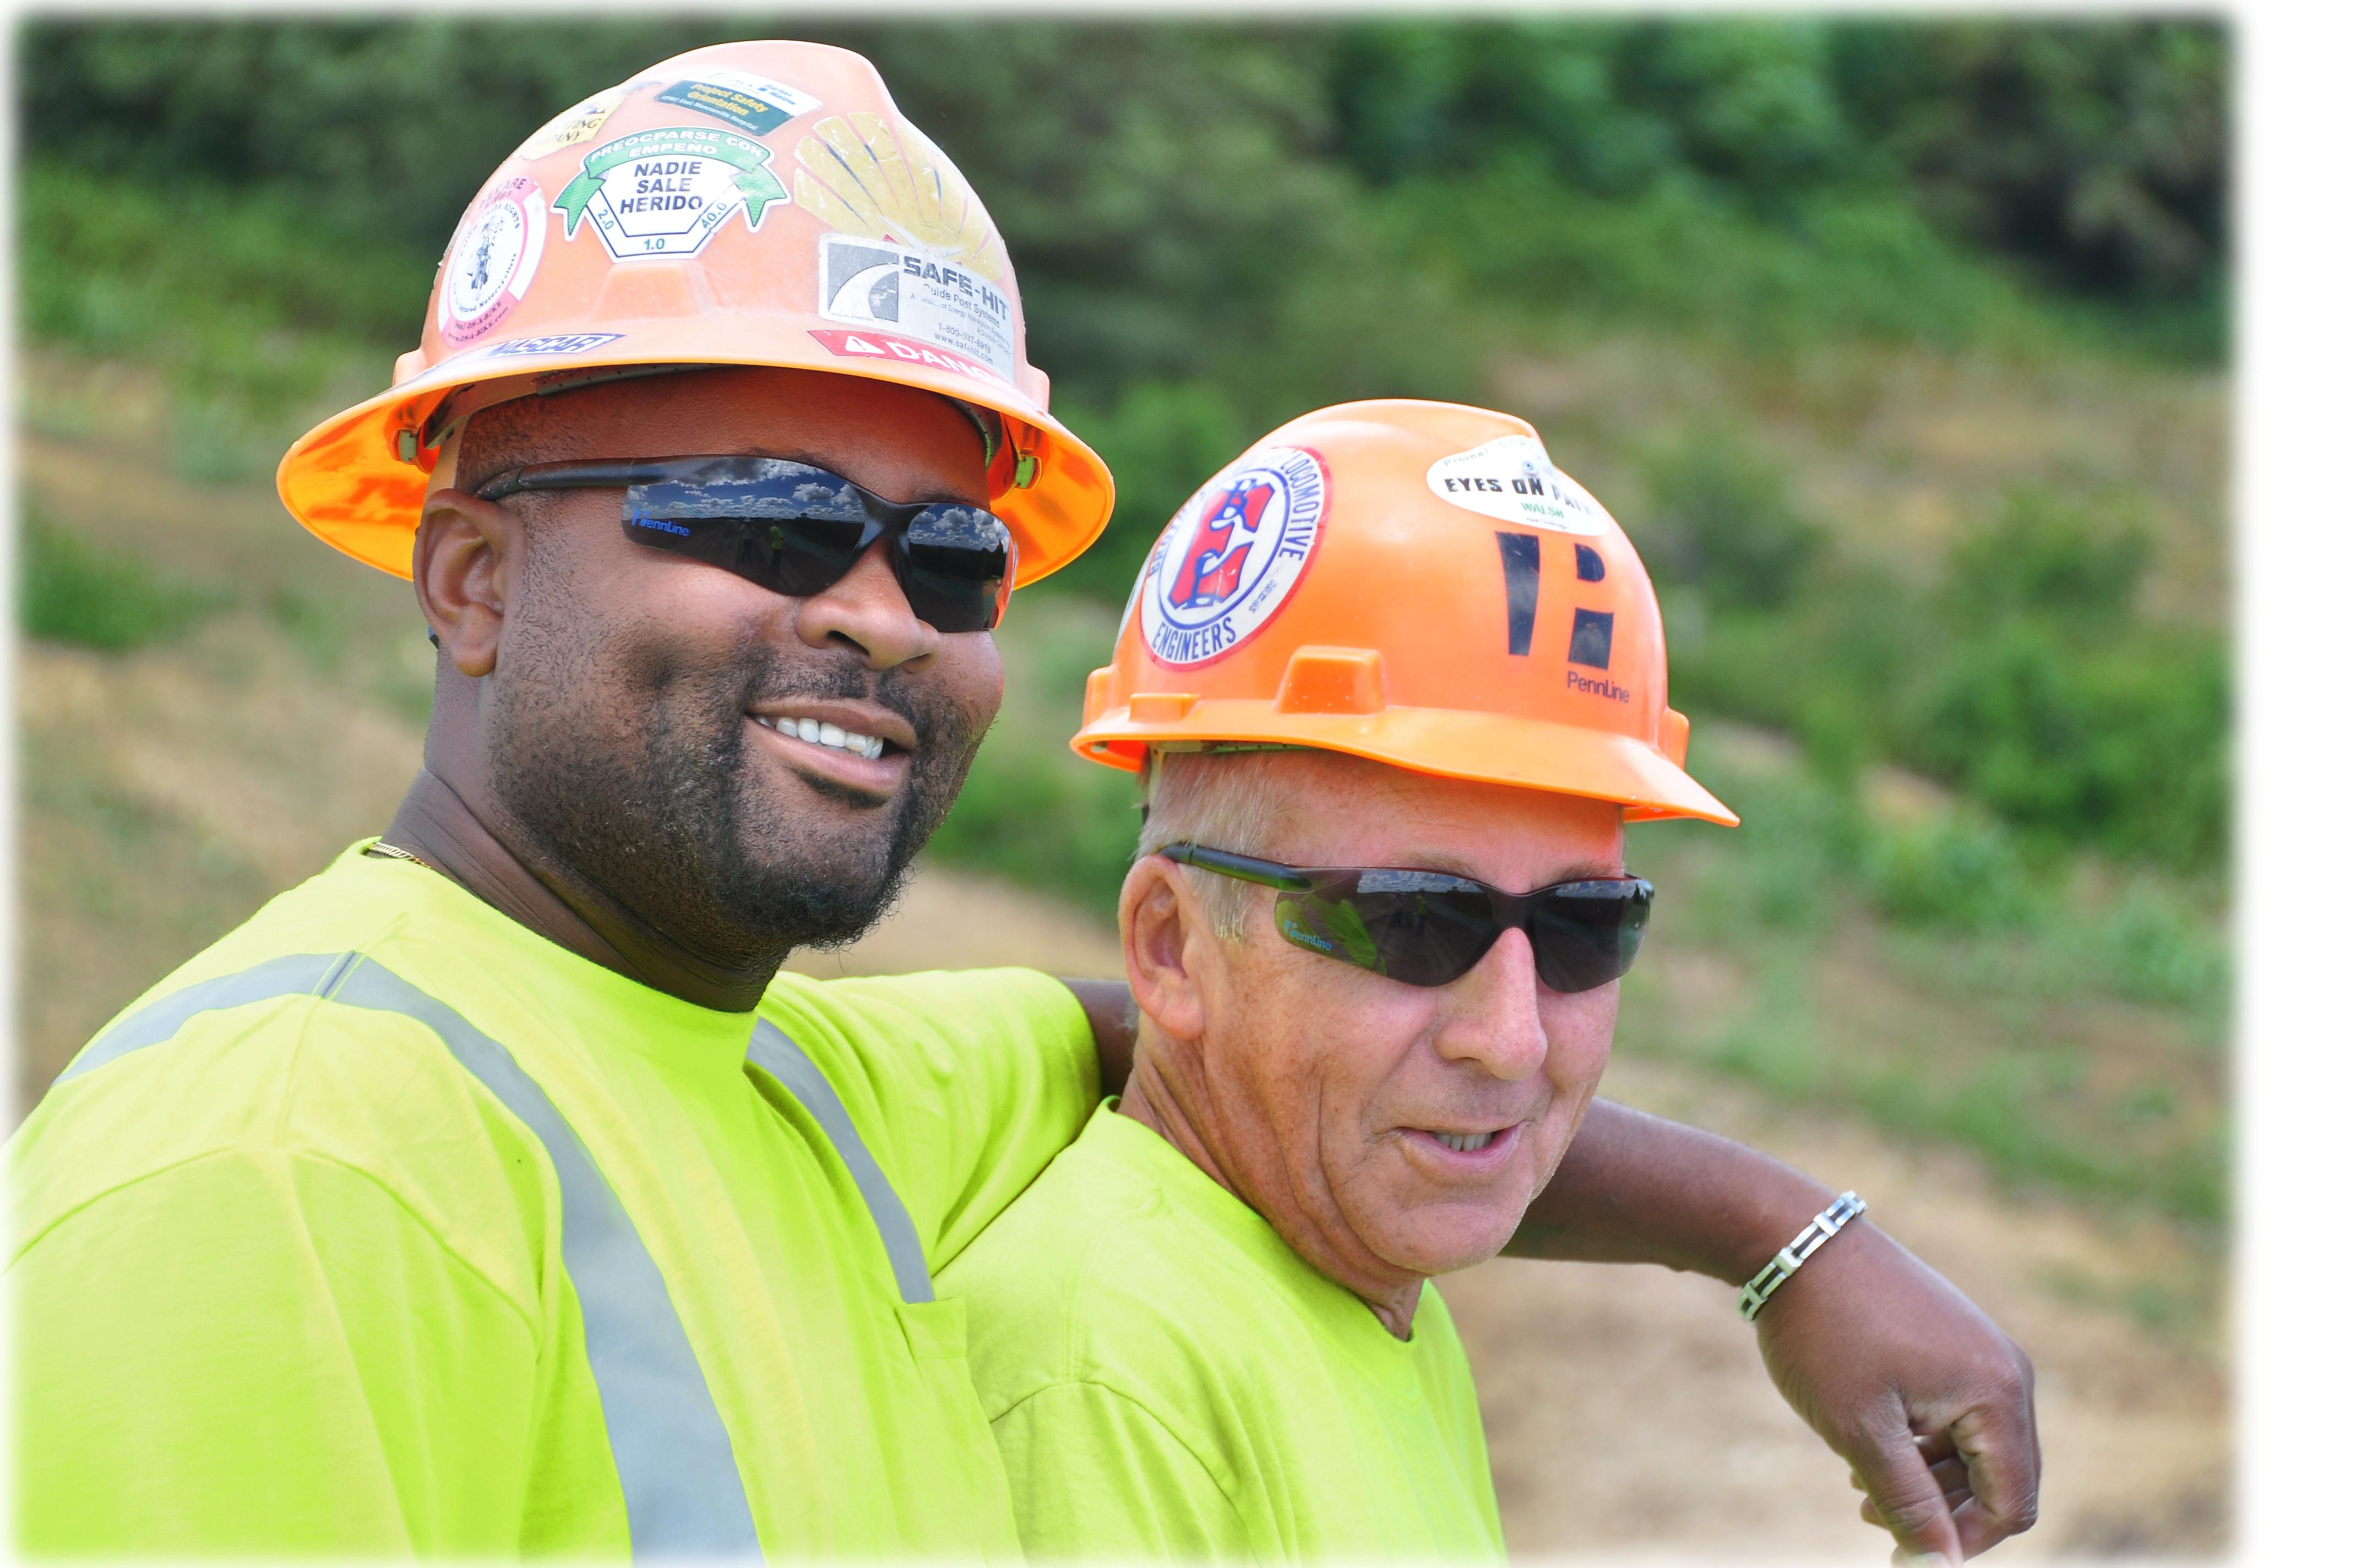helmet: (271, 37, 1122, 588), (1068, 397, 1748, 833)
